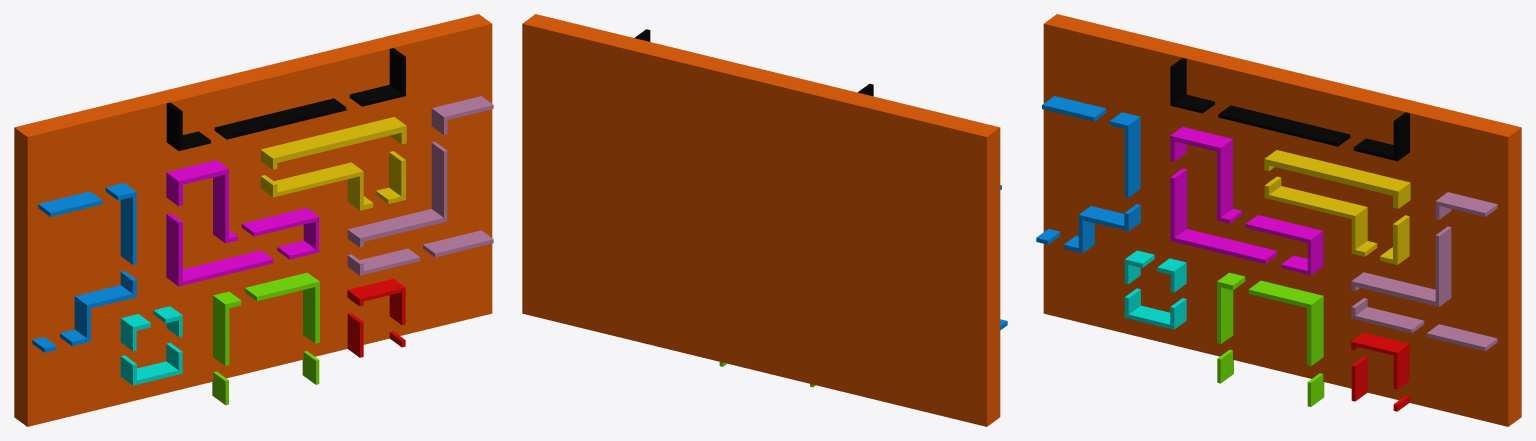
Rendered from map_#2.fbx.
The picture shows the model from 3 angles, left to right: view 1: azimuth 30°, elevation 25°; view 2: azimuth 150°, elevation 25°; view 3: azimuth 330°, elevation 25°; orthographic projection.
Parts seen in each view (by area): view 1: pCube28, pCube33, pCube35, pCube34, pCube30, pCube29, pCube32, pCube31, pCube36; view 2: pCube28; view 3: pCube28, pCube33, pCube34, pCube35, pCube30, pCube29, pCube32, pCube31, pCube36.
Boxes of the visible parts, x1,y1,x2,y2 form: pCube28: (14,14,492,426); pCube33: (166,160,319,286); pCube35: (347,96,493,275); pCube34: (260,117,406,210); pCube30: (32,183,136,352); pCube29: (166,48,405,150); pCube32: (212,272,319,405); pCube31: (120,306,182,385); pCube36: (347,278,405,357); pCube28: (522,14,1000,426); pCube28: (1043,14,1521,426); pCube33: (1170,127,1323,275); pCube34: (1264,150,1410,264); pCube35: (1351,192,1497,351); pCube30: (1036,96,1140,253); pCube29: (1170,58,1409,161); pCube32: (1217,272,1324,406); pCube31: (1124,250,1186,329); pCube36: (1351,332,1409,411).
Bounding box in the file's own units: 20.15 × 12.69 × 1.92.
